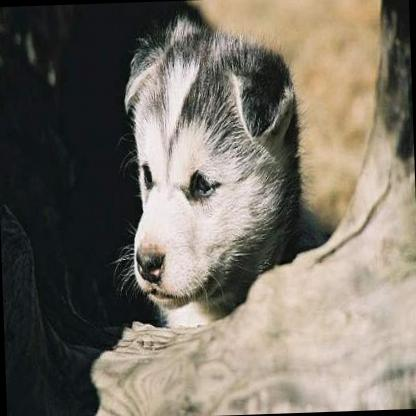Eskimo_dog: (105, 3, 316, 331)
